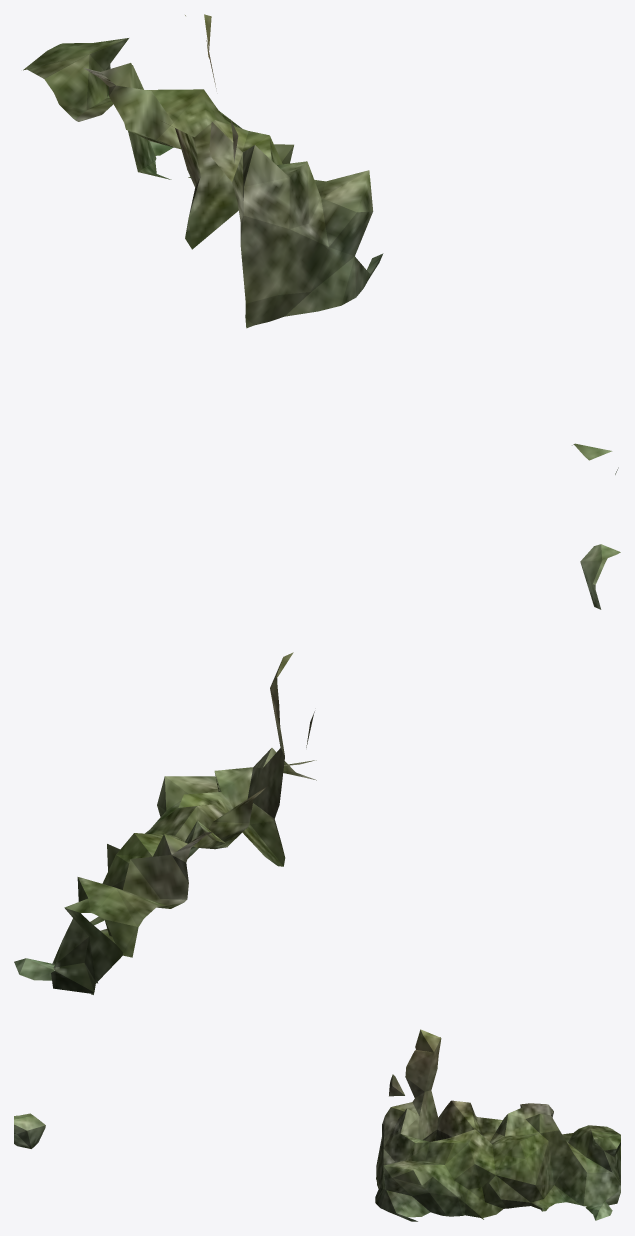
The picture shows the model from 3 angles, top to bottom: view 1: azimuth 30°, elevation 25°; view 2: azimuth 150°, elevation 25°; view 3: azimuth 270°, elevation 25°; orthographic projection. The views are drawn at different scales.
Bounding box in the file's own units: 1.02 × 1.6 × 5.9.
Materials: 1 (1 with a texture image).
